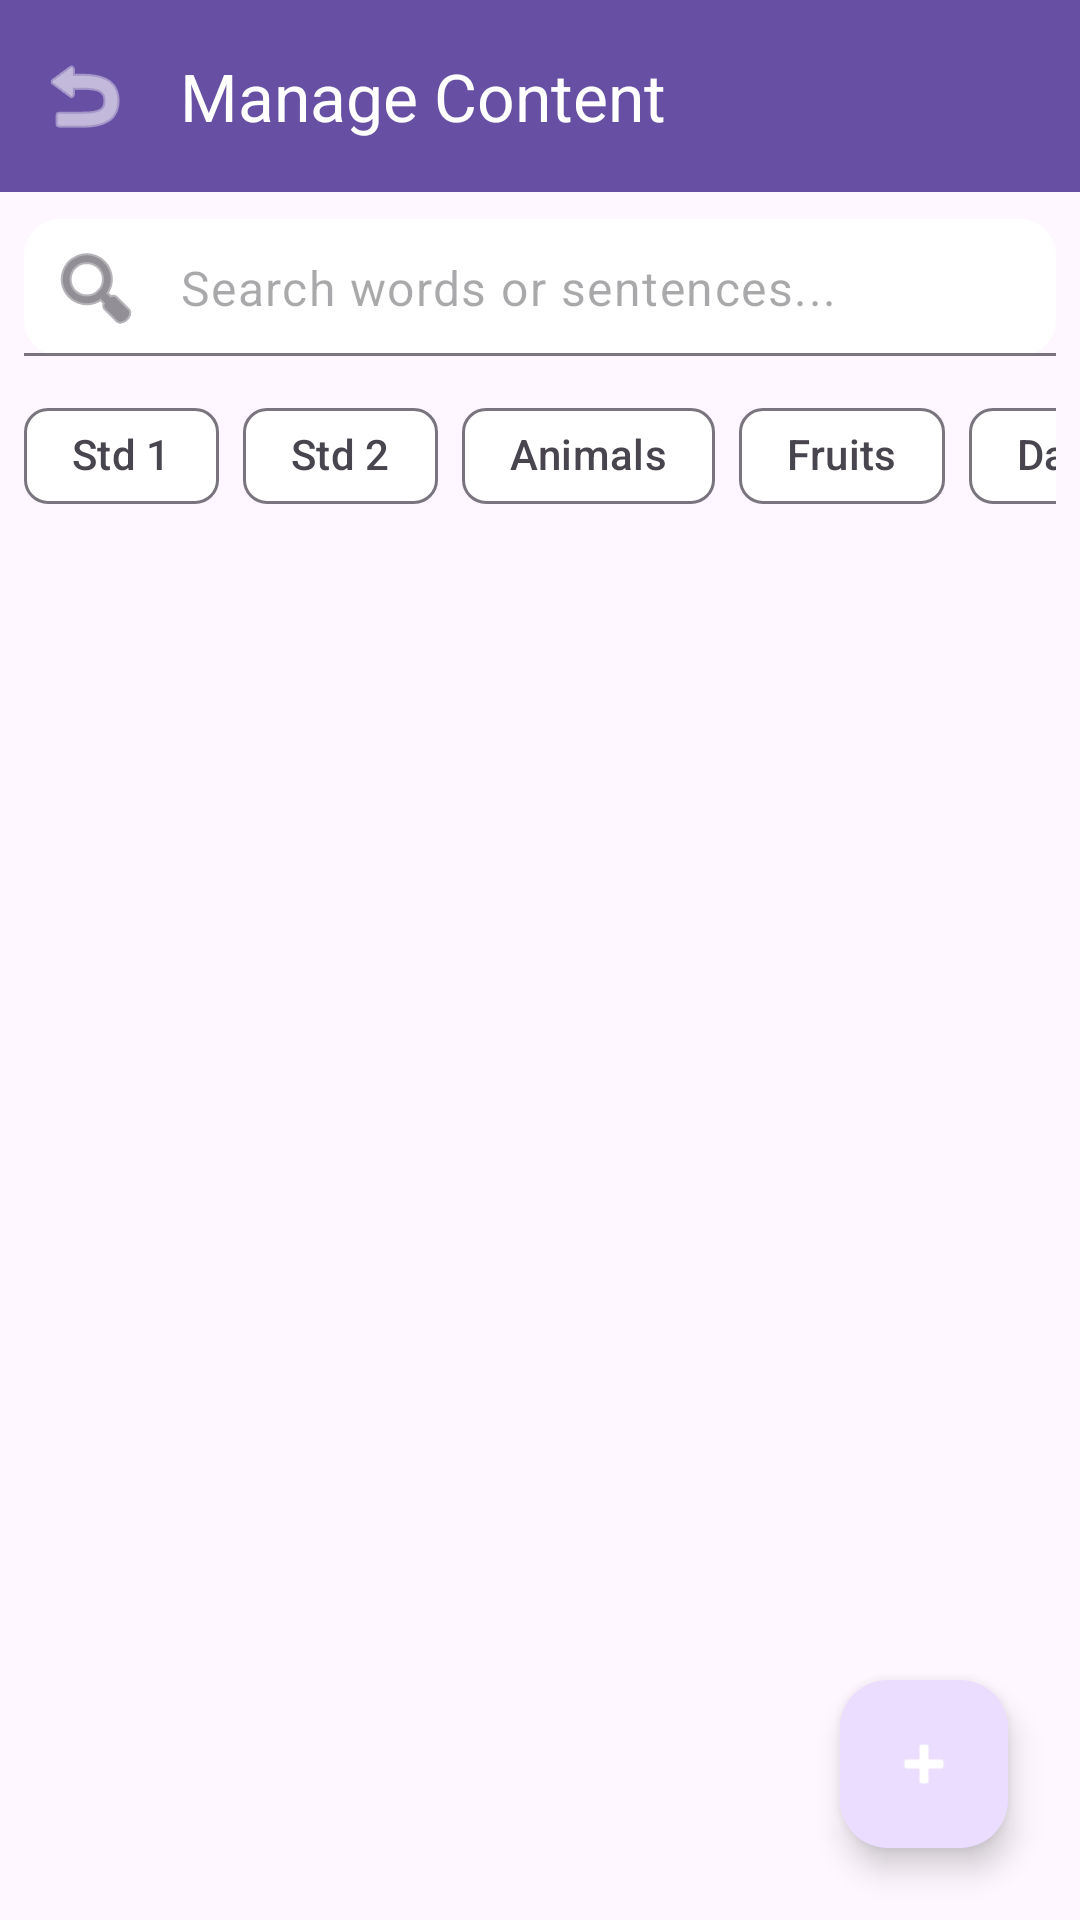

Named icons in this screenshot (1080w x 1920h) and their centers, [x,y]:
Add Content: [924,1764]
